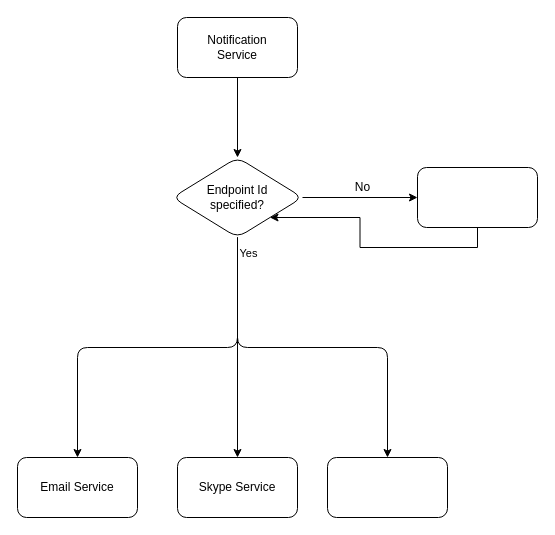
This 555x535 diagram has some shape labels left out. The shapes that lost their labels are listed below. From the top down, each one's centre as x and y in pixels, then its label:
(477,197): User Pref Service
(387,487): etc...
